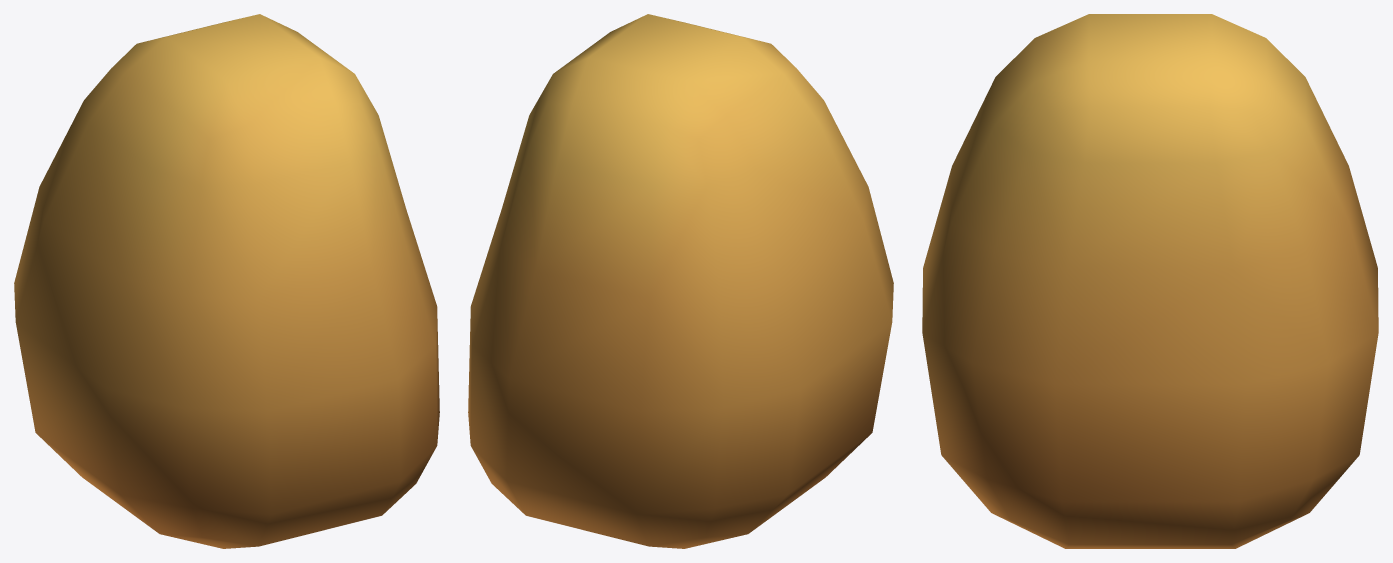
Rendered from re-food_ingredient_potato.glb.
The picture shows the model from 3 angles, left to right: view 1: azimuth 30°, elevation 25°; view 2: azimuth 150°, elevation 25°; view 3: azimuth 270°, elevation 25°; orthographic projection. The views are drawn at different scales.
Visible parts, largest first — view 1: food_ingredient_potato; view 2: food_ingredient_potato; view 3: food_ingredient_potato.
Boxes of the visible parts, box(x1,y1,x2,y2) form: food_ingredient_potato: box(14, 14, 439, 548); food_ingredient_potato: box(468, 14, 893, 548); food_ingredient_potato: box(922, 14, 1378, 548).
Bounding box in the file's own units: 0.6 × 0.78 × 0.68.
Materials: 1 (1 with a texture image).
